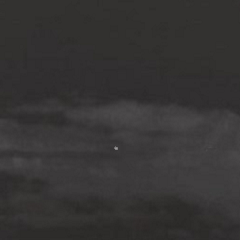Target: (112, 144, 120, 152)
